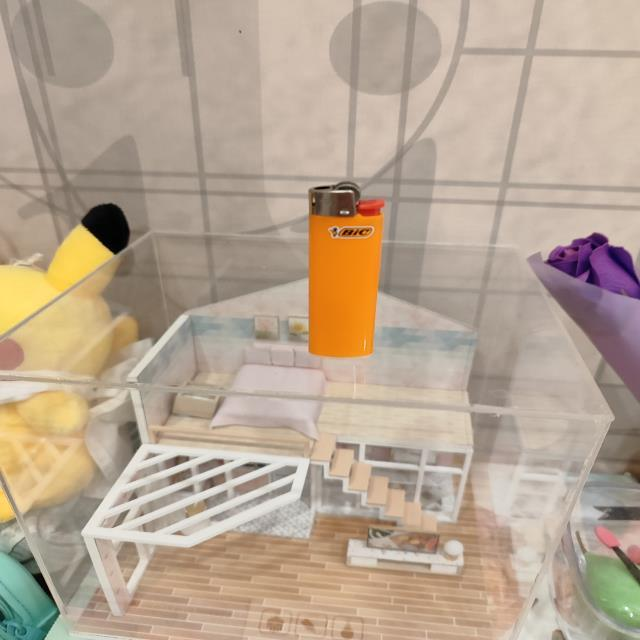lighter: (309, 181, 383, 356)
